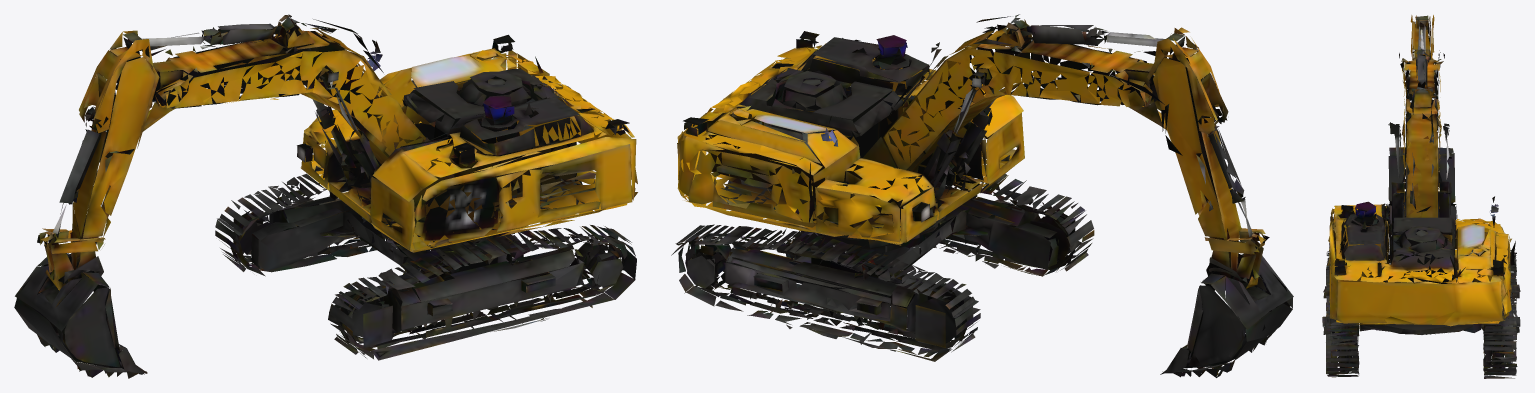
Rendered from excavator-lite.glb.
3 views of the same model, side by side, from view 1: azimuth 30°, elevation 25°; view 2: azimuth 150°, elevation 25°; view 3: azimuth 270°, elevation 25° (orthographic). The views are drawn at different scales.
Visible parts, largest first — view 1: geometry_0; view 2: geometry_0; view 3: geometry_0.
Boxes of the visible parts, box(x1,y1,x2,y2) form: geometry_0: box(14, 14, 637, 378); geometry_0: box(671, 14, 1293, 377); geometry_0: box(1322, 15, 1520, 378).
Size of the model in its own units: 1.01 by 0.579 by 0.4591.
1 material, 1 textured.
